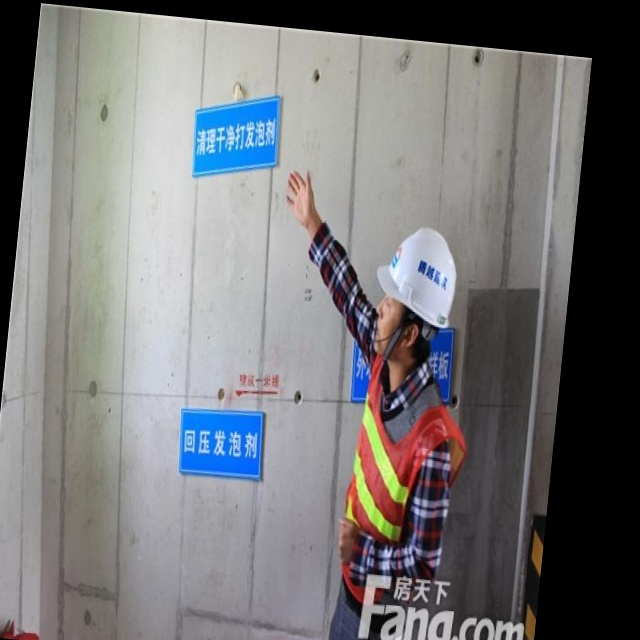Con_Casco: (365, 225, 462, 366)
Con_Chaleco: (338, 358, 468, 579)
